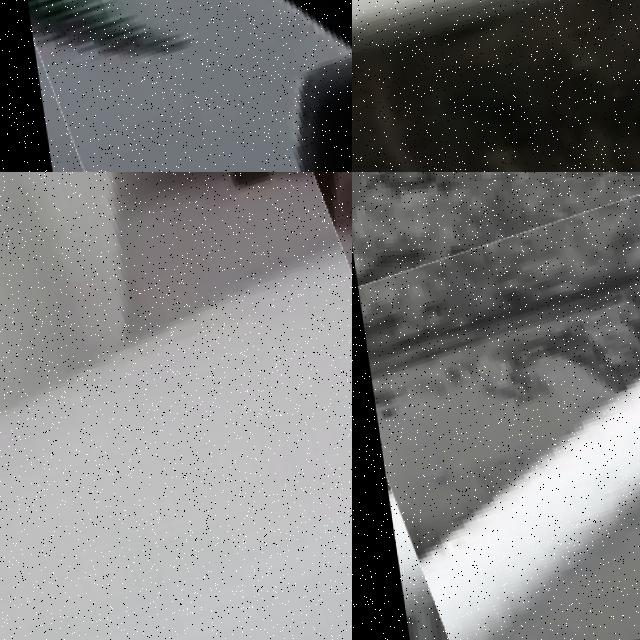drone: (0, 172, 352, 640), (352, 172, 640, 640), (0, 0, 352, 172), (352, 0, 640, 172)
